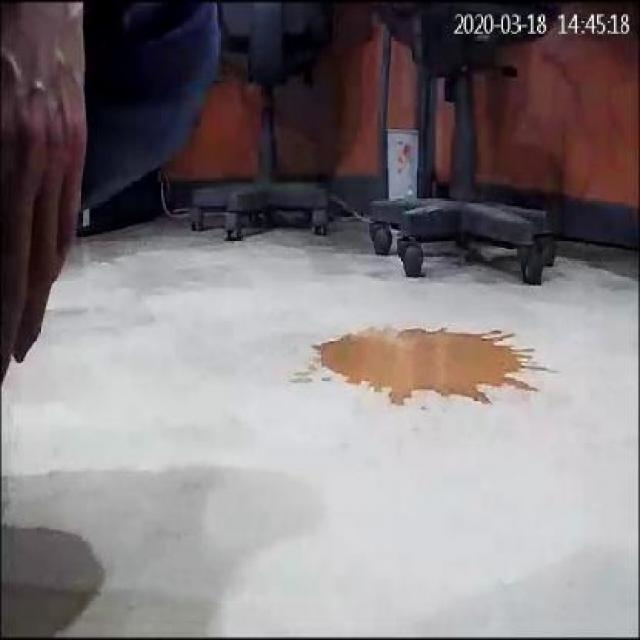spill: (315, 310, 551, 402)
